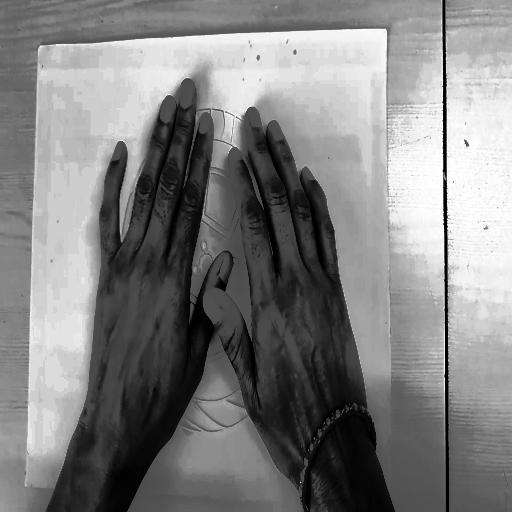bottom_left: (22, 481, 29, 495)
tire: (110, 85, 305, 445)
top_left: (36, 41, 43, 54)
top_right: (382, 23, 392, 39)
